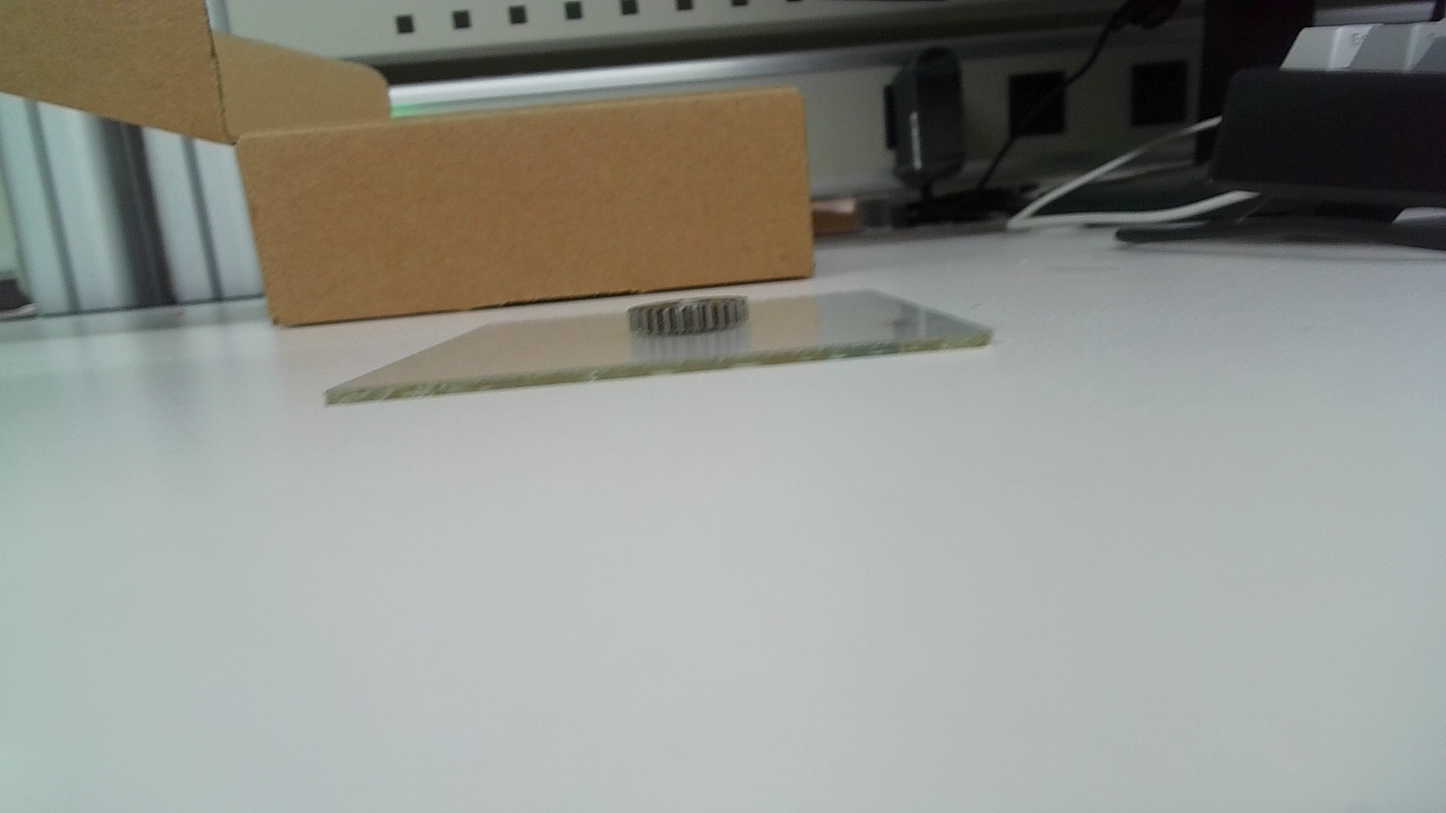gear: (625, 291, 756, 339)
